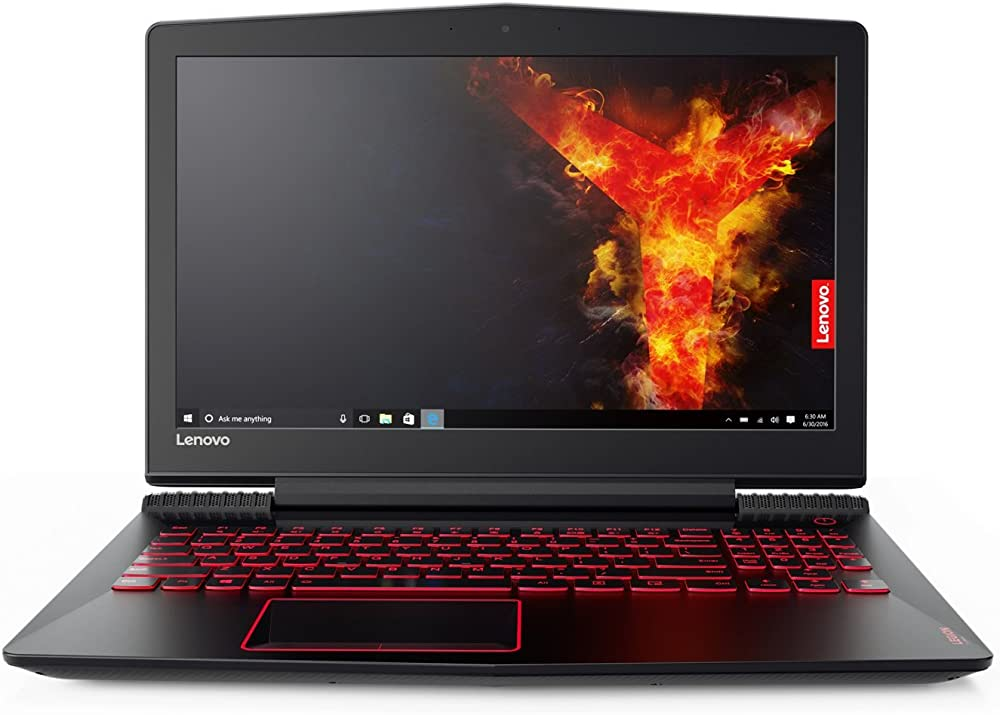laptop: (43, 12, 1000, 691)
